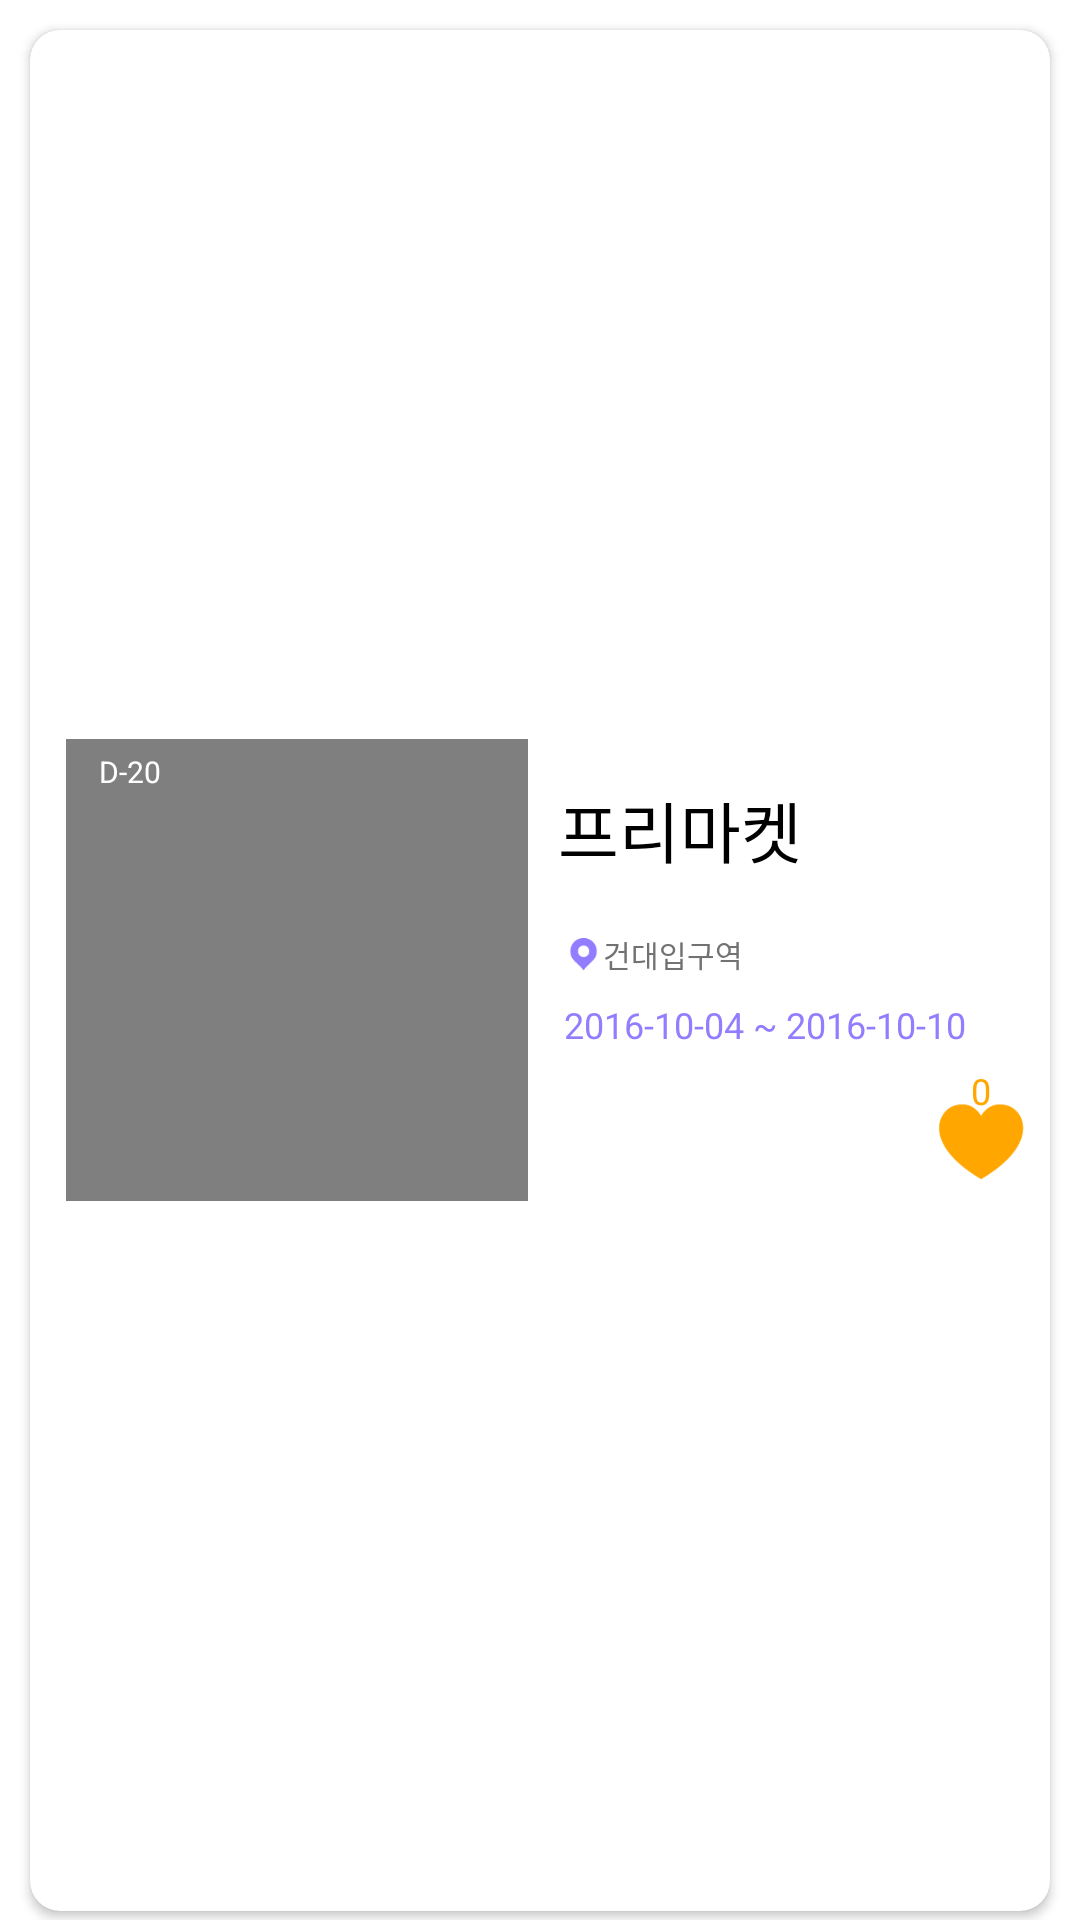

Where icons sit on this 1080w x 1920h app screen, as detection(x1, y1, x2, y2):
heart: detection(939, 1081, 1024, 1180)
